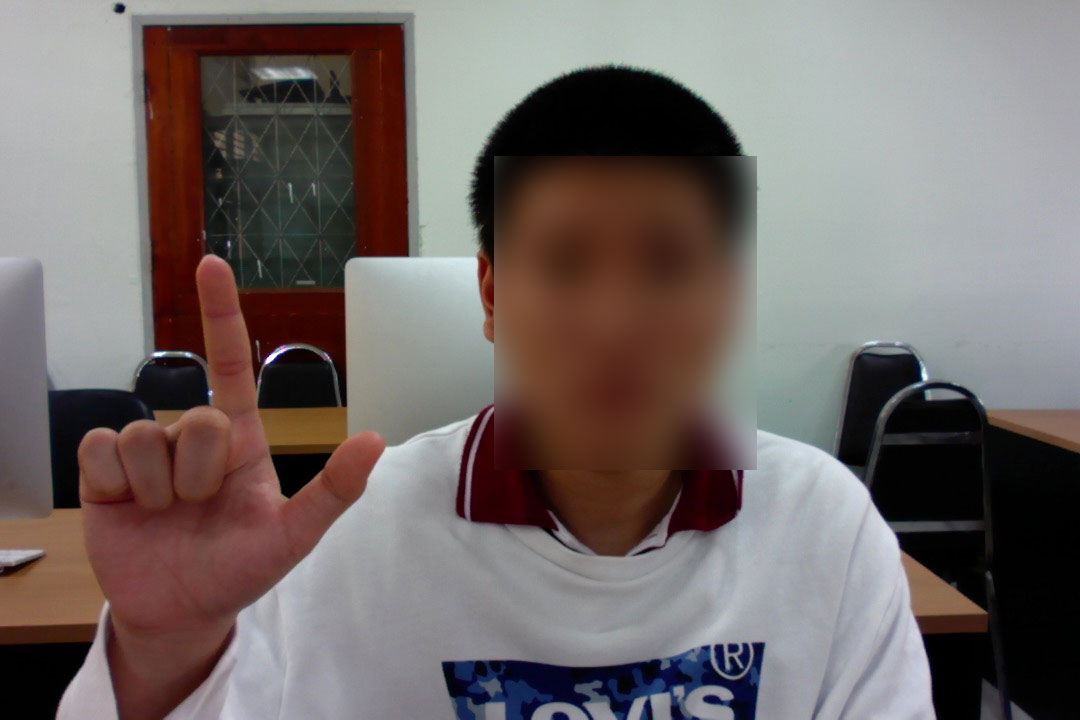lor: (58, 245, 395, 660)
